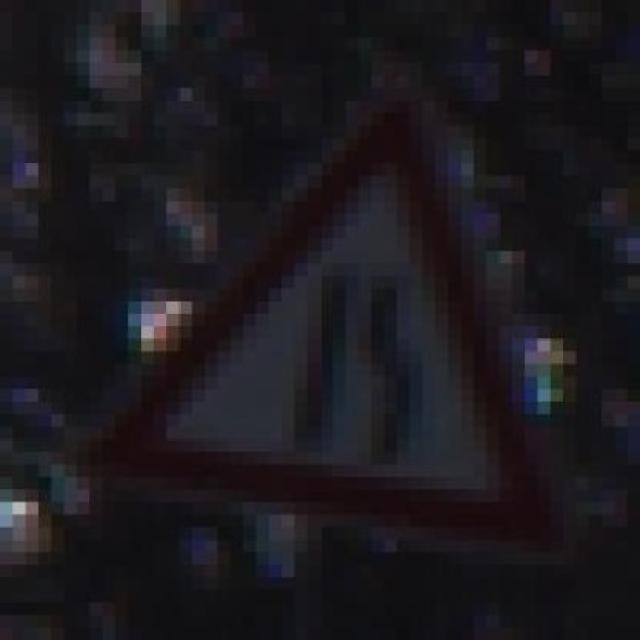-Road narrows on right: (90, 62, 576, 566)
